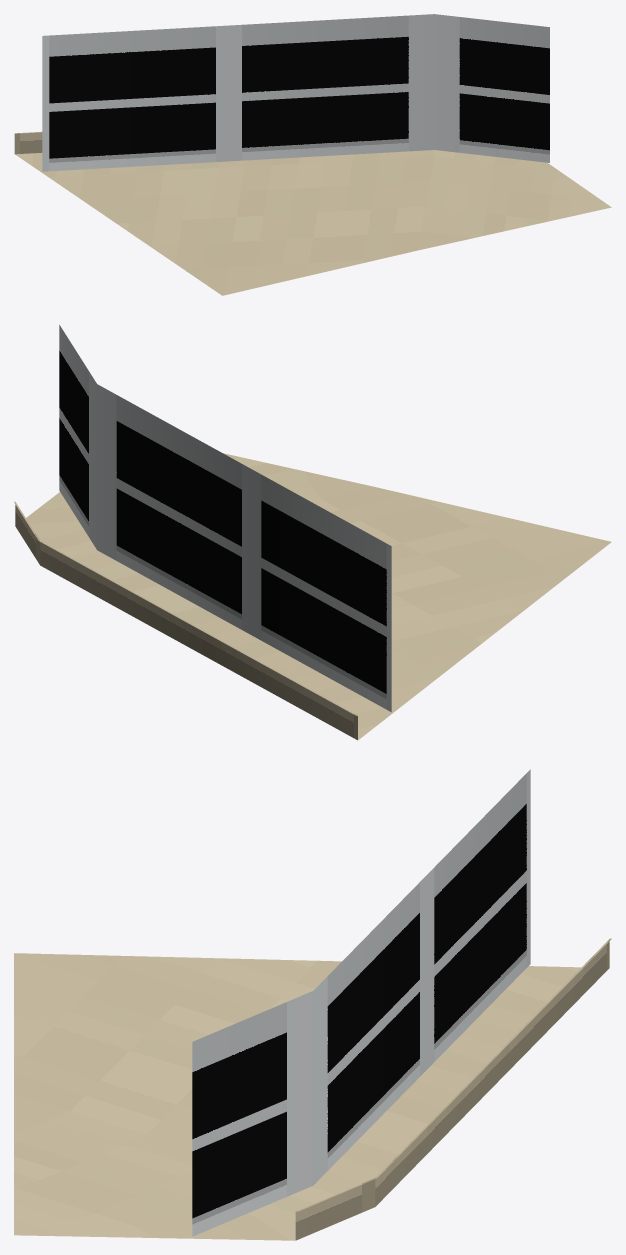
Rendered from tank_large_roof_3_0.obj.
3 views of the same model, one above another, from view 1: azimuth 30°, elevation 25°; view 2: azimuth 150°, elevation 25°; view 3: azimuth 270°, elevation 25° (orthographic). The views are drawn at different scales.
Parts seen in each view (by area): view 1: tank_large_roof_3_0; view 2: tank_large_roof_3_0; view 3: tank_large_roof_3_0.
Boxes of the visible parts, box(x1,y1,x2,y2) form: tank_large_roof_3_0: box(14, 14, 611, 295); tank_large_roof_3_0: box(14, 325, 611, 740); tank_large_roof_3_0: box(14, 769, 611, 1240).
Size of the model in its own units: 3 by 1.02 by 2.78.
